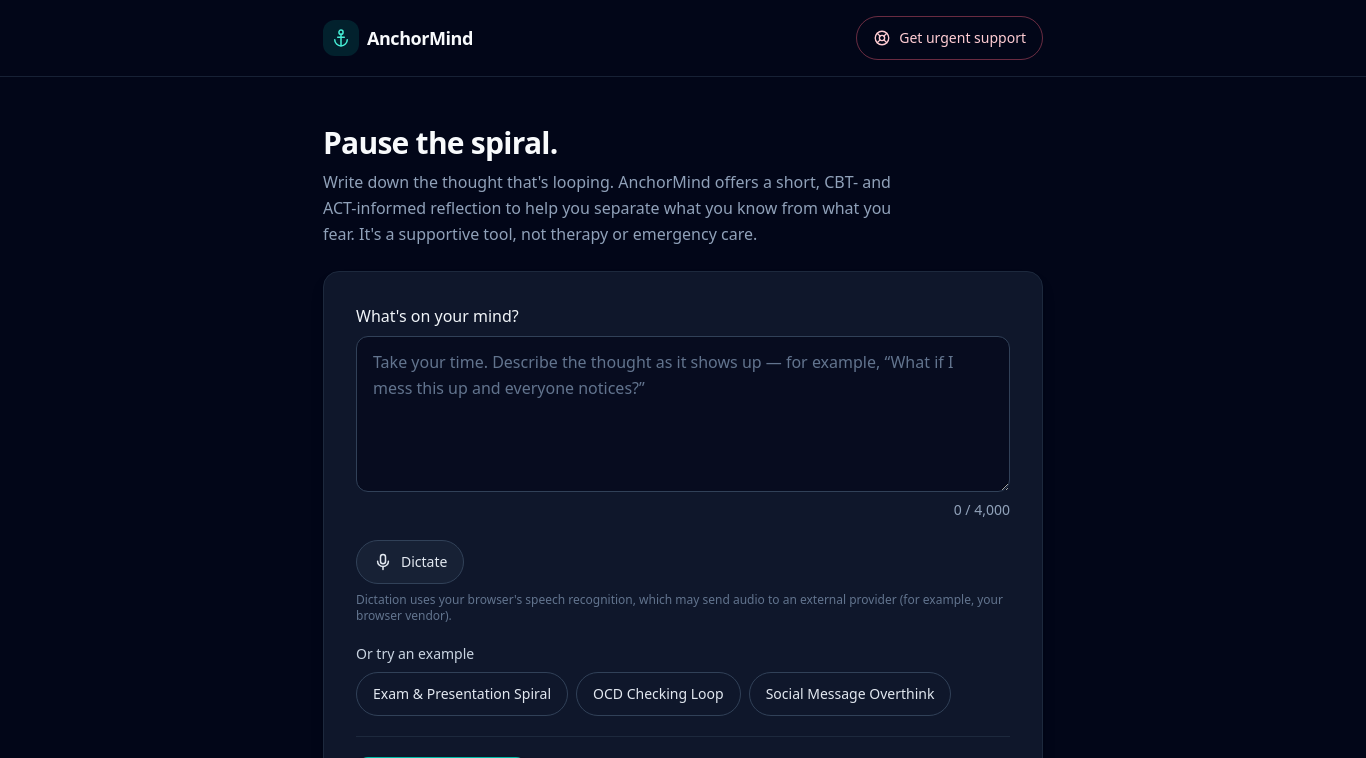
Test case: Home page flow › hides Retry for non-retryable errors
The width and height of the screenshot is (1366, 758).
Replace the text in the text box labelled "What's on your mind?" with "custom": (683,414) [356,336,1010,492]
(page scrolled)
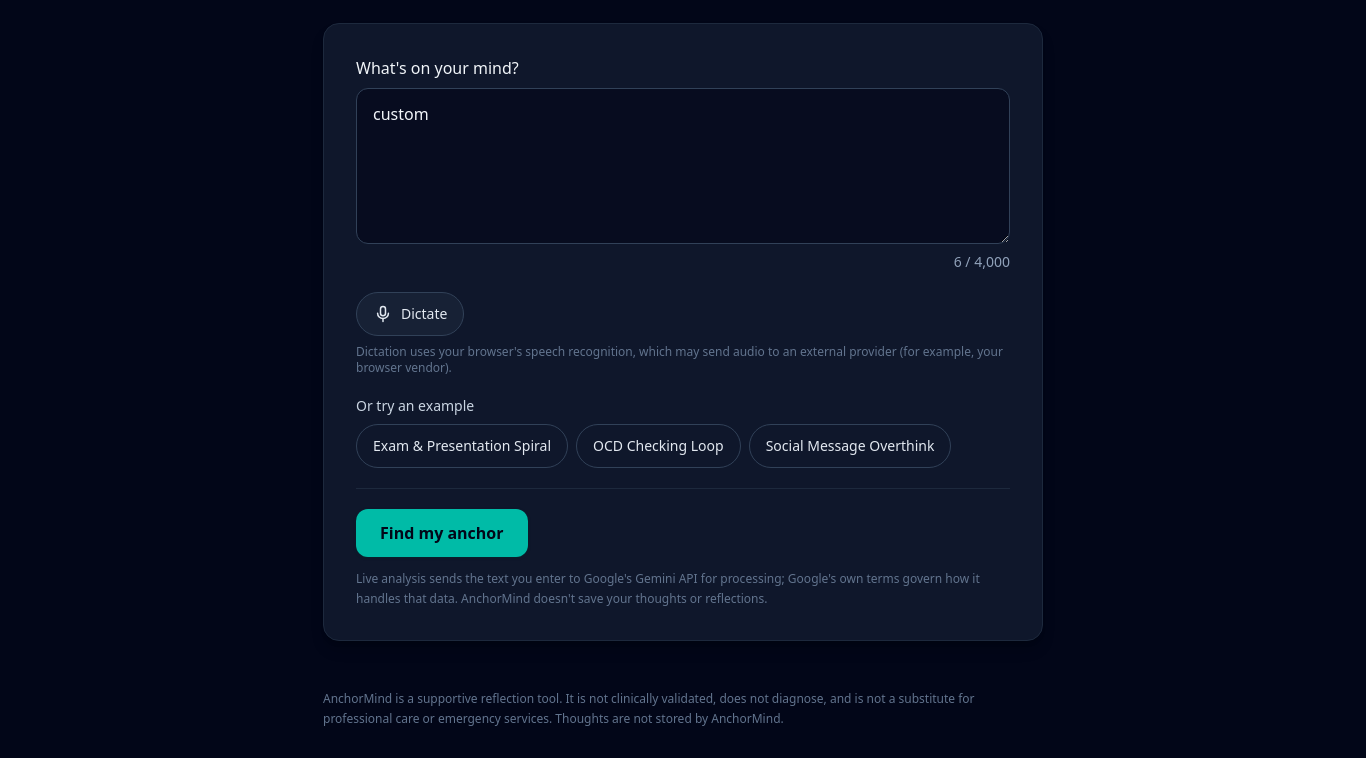
Click the button "Find my anchor": (442,533) [356,509,528,557]
(page scrolled)
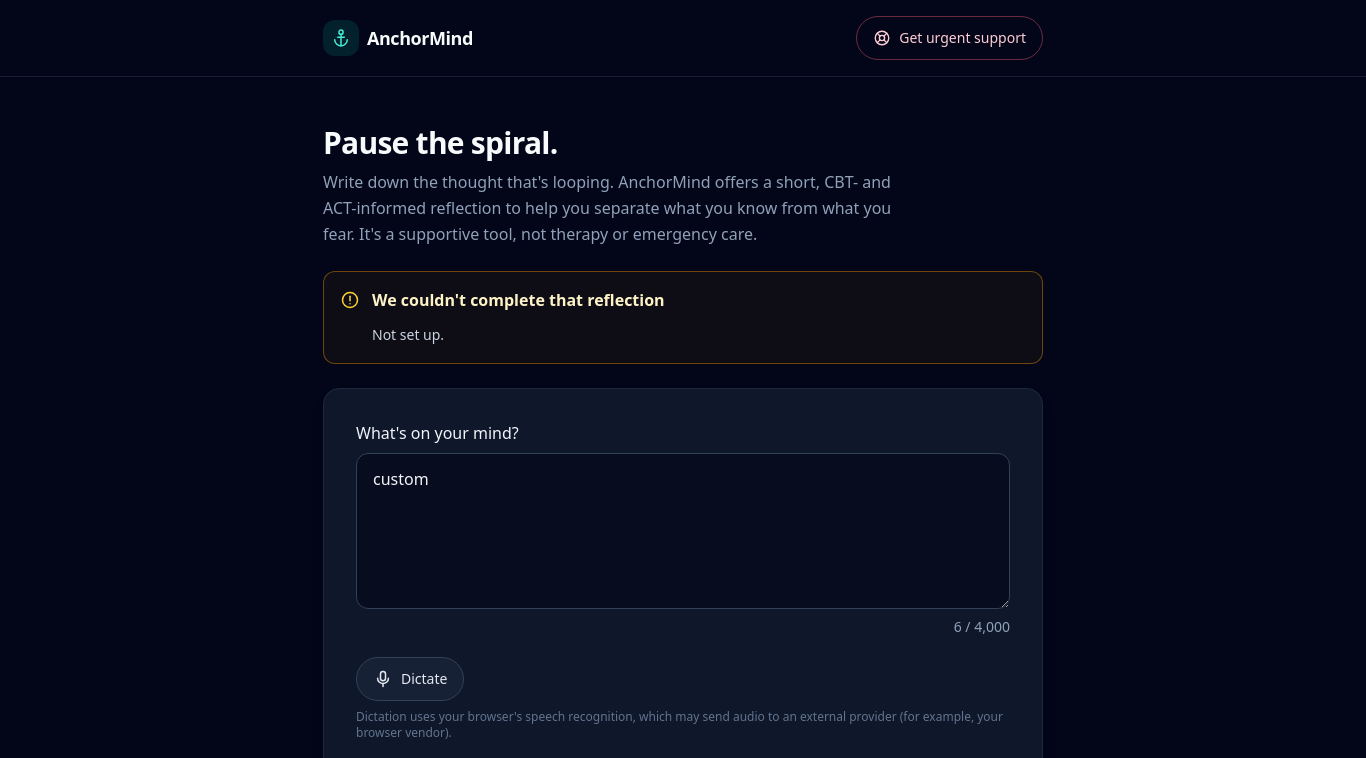
Check: the text "Not set up." is shown, box [372,325,444,344]
